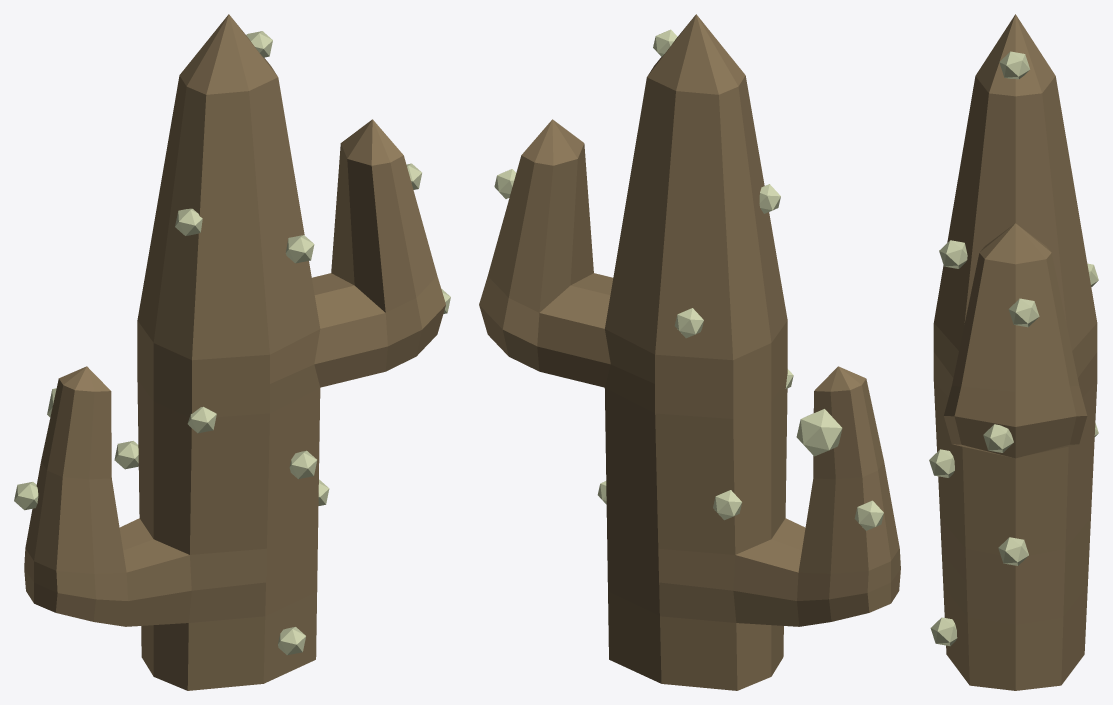
File: 01_01Cactus_Brown.fbx
3 renders of one model, left to right at view 1: azimuth 30°, elevation 25°; view 2: azimuth 150°, elevation 25°; view 3: azimuth 270°, elevation 25°, orthographic.
Parts seen in each view (by area): view 1: Cube.014; view 2: Cube.014; view 3: Cube.014.
Part boxes in pixels (left/top/right/bottom): Cube.014: left=14, top=14, right=450, bottom=690; Cube.014: left=479, top=14, right=900, bottom=690; Cube.014: left=929, top=14, right=1098, bottom=690.
Size of the model in its own units: 93.75 by 141 by 33.78.
